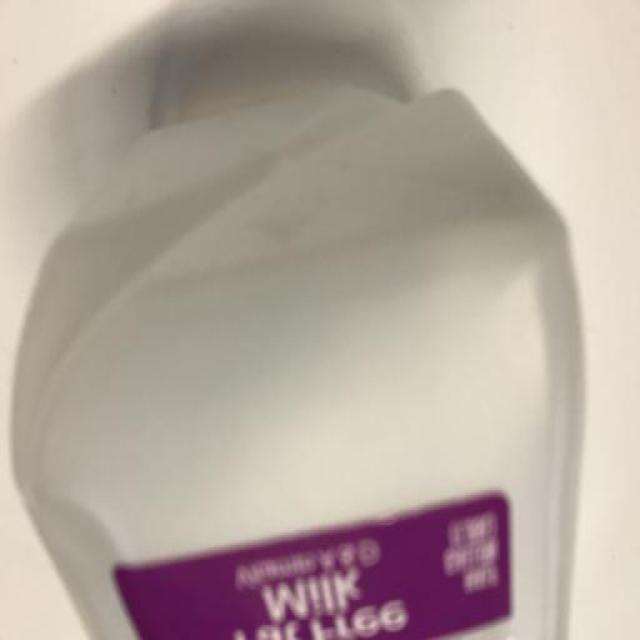Plastic: (9, 83, 586, 640)
